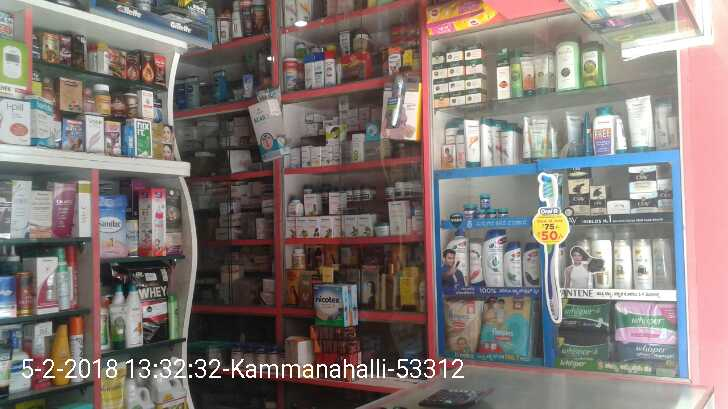beauty: (481, 229, 506, 287), (567, 169, 592, 216), (631, 236, 652, 289), (612, 236, 632, 287), (504, 240, 522, 288), (625, 166, 656, 193), (521, 243, 539, 287), (589, 185, 609, 214), (628, 192, 656, 212)
pharmacy: (478, 296, 536, 358), (611, 298, 678, 344), (562, 299, 610, 330), (479, 194, 491, 209)
